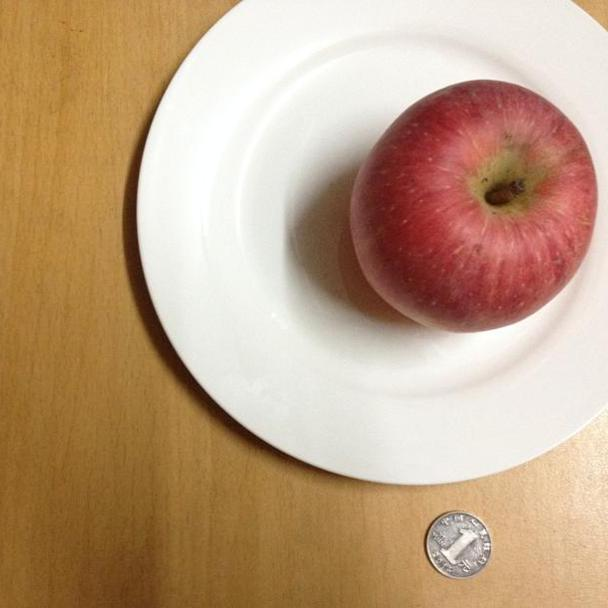apple: (348, 79, 599, 333)
